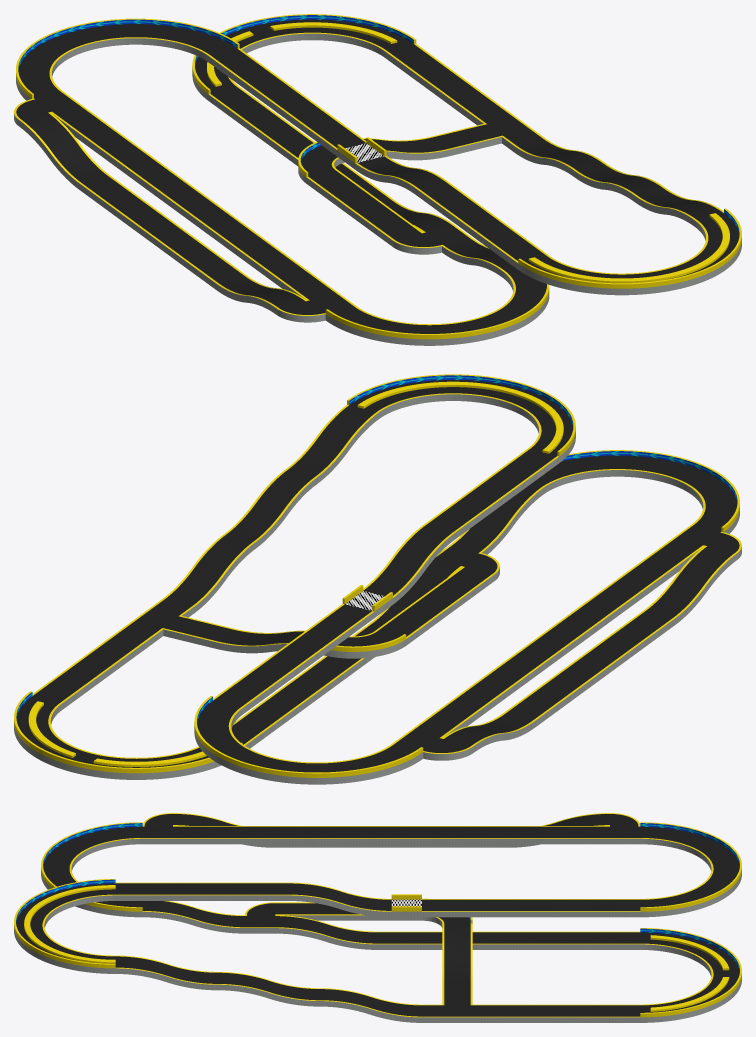
Rendered from track_advanced3.dae.
3 views of the same model, one above another, from view 1: azimuth 30°, elevation 25°; view 2: azimuth 150°, elevation 25°; view 3: azimuth 270°, elevation 25° (orthographic). The views are drawn at different scales.
Visible parts, largest first — view 1: SketchUp (×9); view 2: SketchUp (×9); view 3: SketchUp (×11).
Boxes of the visible parts, x1,y1,x2,y2 form: SketchUp (×9): (14,14,741,345); SketchUp (×9): (14,374,741,784); SketchUp (×11): (14,813,741,1022).
Bounding box in the file's own units: 15748 × 28215 × 2488.
